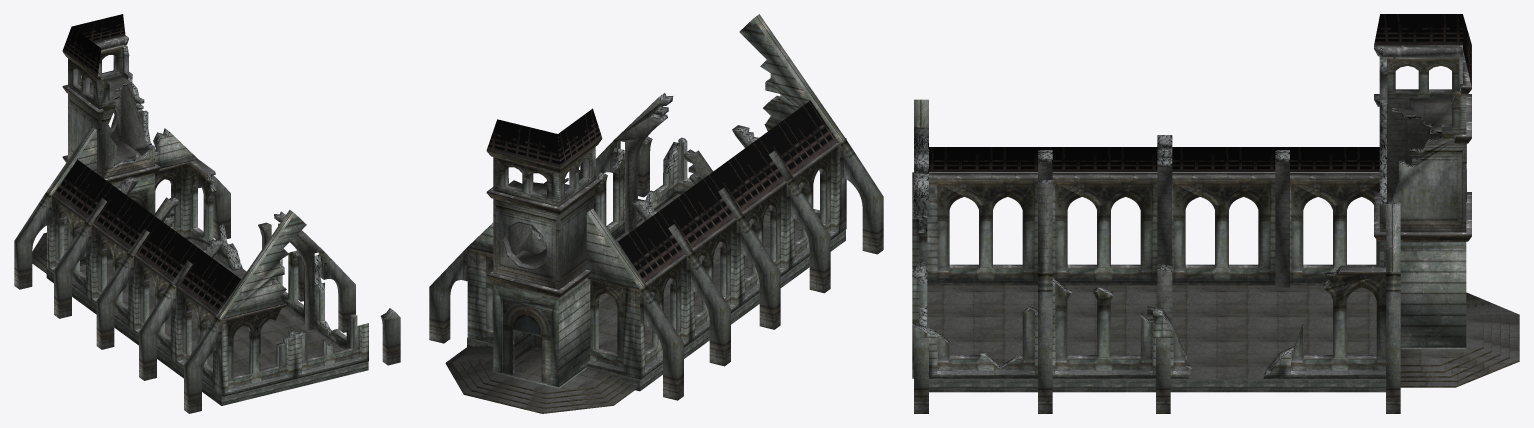
File: AachenChurch.dae
3 views of the same model, side by side, from view 1: azimuth 30°, elevation 25°; view 2: azimuth 150°, elevation 25°; view 3: azimuth 270°, elevation 25° (orthographic). The views are drawn at different scales.
Parts seen in each view (by area): view 1: TTR_SMAachenChurch01; view 2: TTR_SMAachenChurch01; view 3: TTR_SMAachenChurch01.
Part boxes in pixels (left/top/right/bottom): TTR_SMAachenChurch01: left=14, top=14, right=400, bottom=413; TTR_SMAachenChurch01: left=429, top=14, right=883, bottom=413; TTR_SMAachenChurch01: left=912, top=14, right=1519, bottom=413.
Bounding box in the file's own units: 44.16 × 79.07 × 44.64.
Materials: 9 (9 with a texture image).
